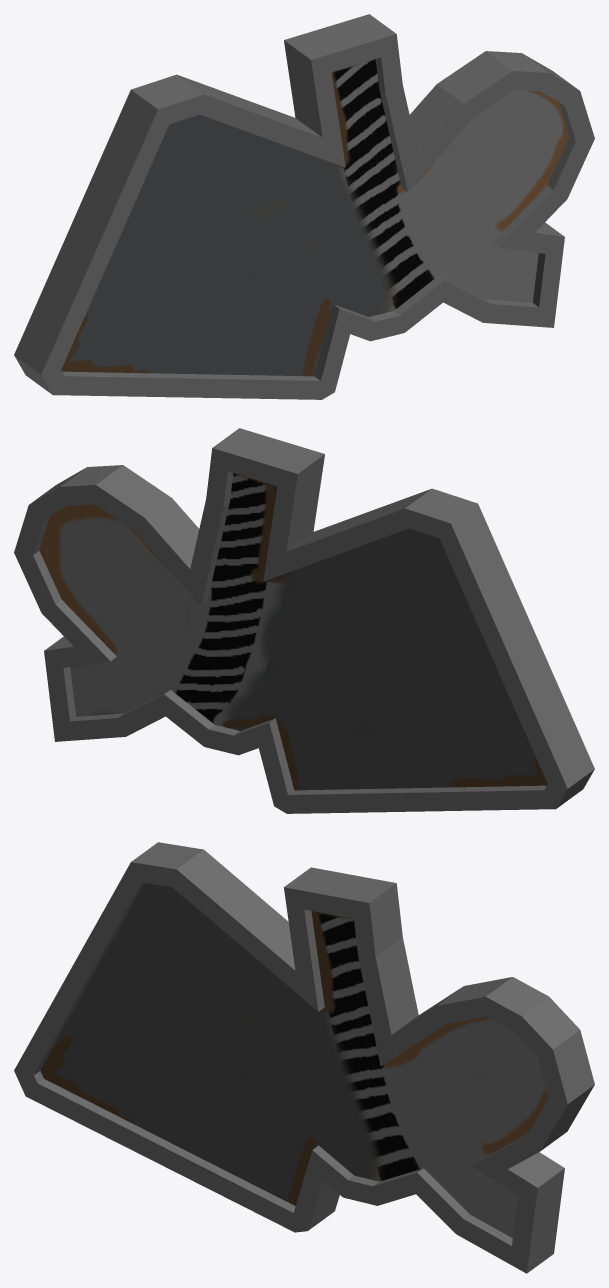
File: salvage.fbx
3 views of the same model, one above another, from view 1: azimuth 30°, elevation 25°; view 2: azimuth 150°, elevation 25°; view 3: azimuth 330°, elevation 25° (orthographic).
Visible parts, largest first — view 1: Cube; view 2: Cube; view 3: Cube.
Boxes of the visible parts, bbox=[...] form: Cube: bbox=[14, 14, 594, 399]; Cube: bbox=[14, 428, 594, 813]; Cube: bbox=[14, 842, 594, 1273].
Size of the model in its own units: 425 by 255 by 36.2.
